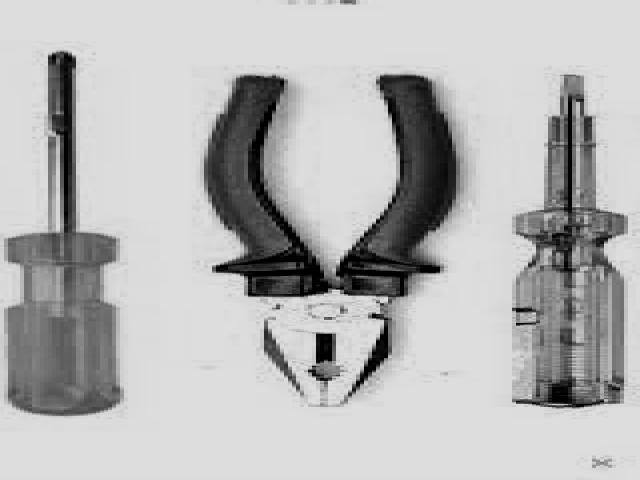Screwdriver: (209, 75, 455, 407), (8, 52, 121, 415), (514, 75, 628, 408)
